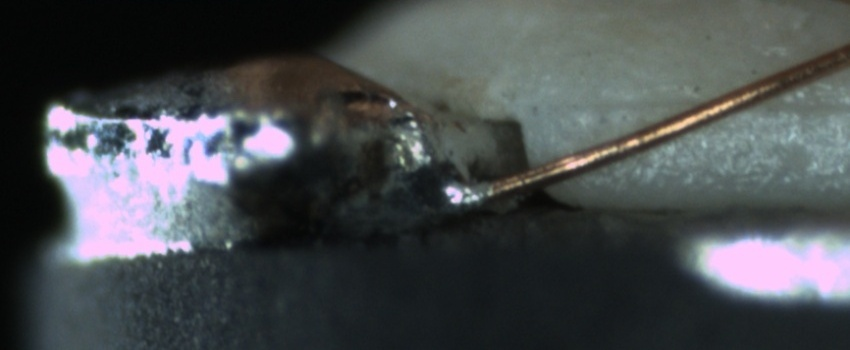DL: (576, 72, 844, 135)
